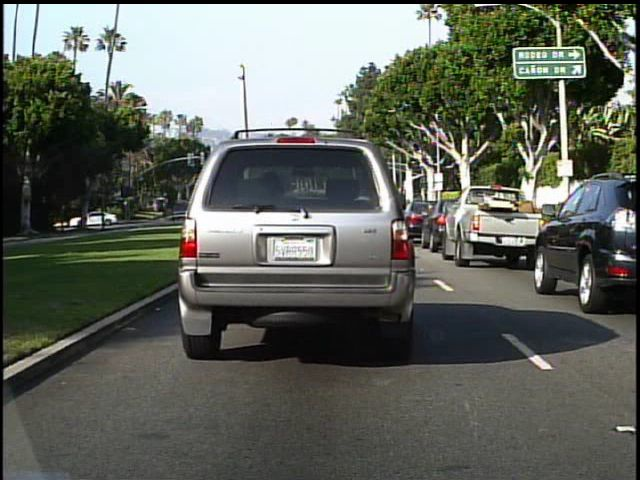person: (79, 207, 93, 229)
